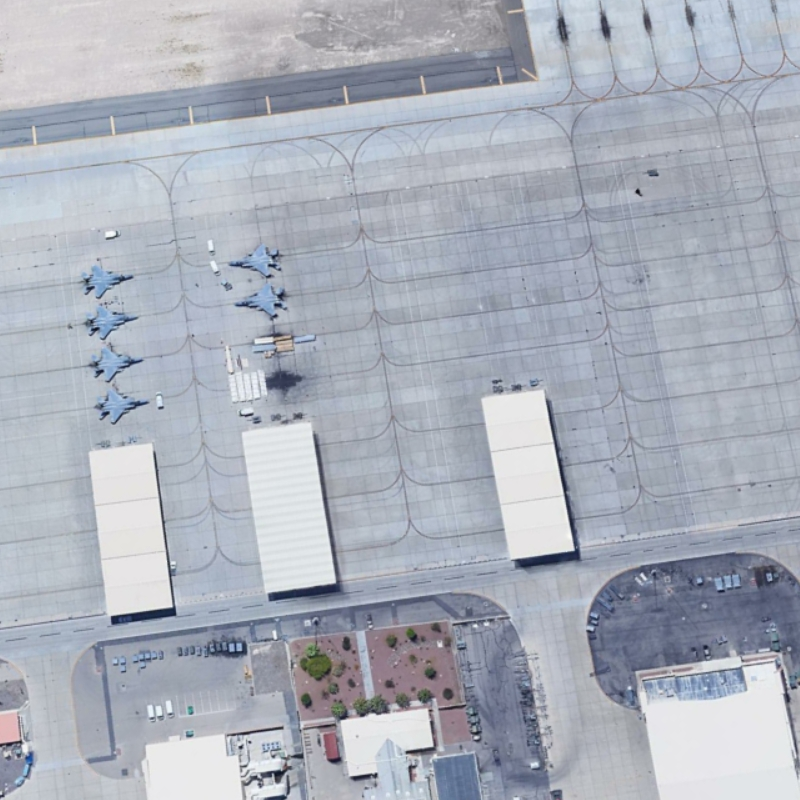A13: (86, 342, 145, 383), (231, 281, 292, 320), (77, 261, 135, 302), (95, 385, 151, 426), (83, 303, 141, 342), (227, 242, 286, 280)
